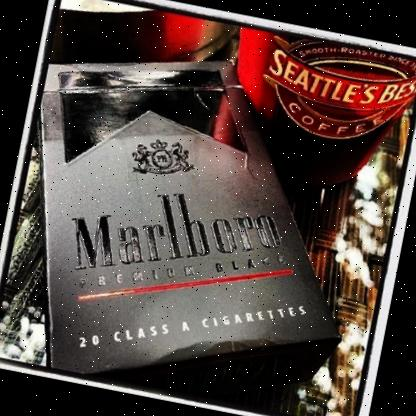bungkus rokok: (0, 15, 389, 416)
